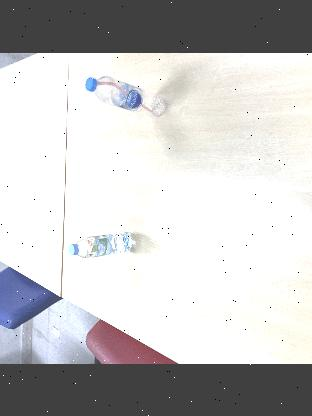Plastic Bottle: (85, 74, 169, 116), (67, 230, 135, 258)
